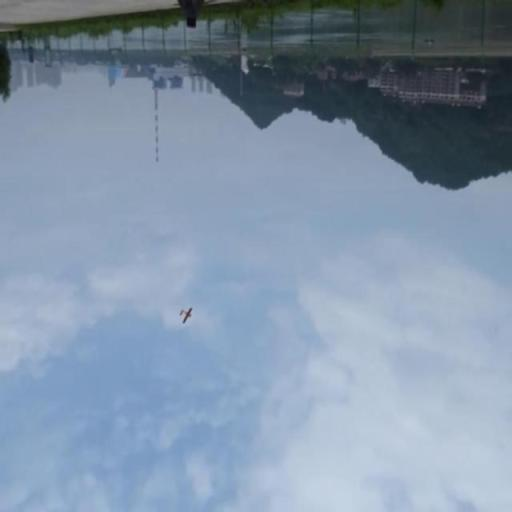uav: (178, 307, 192, 323)
